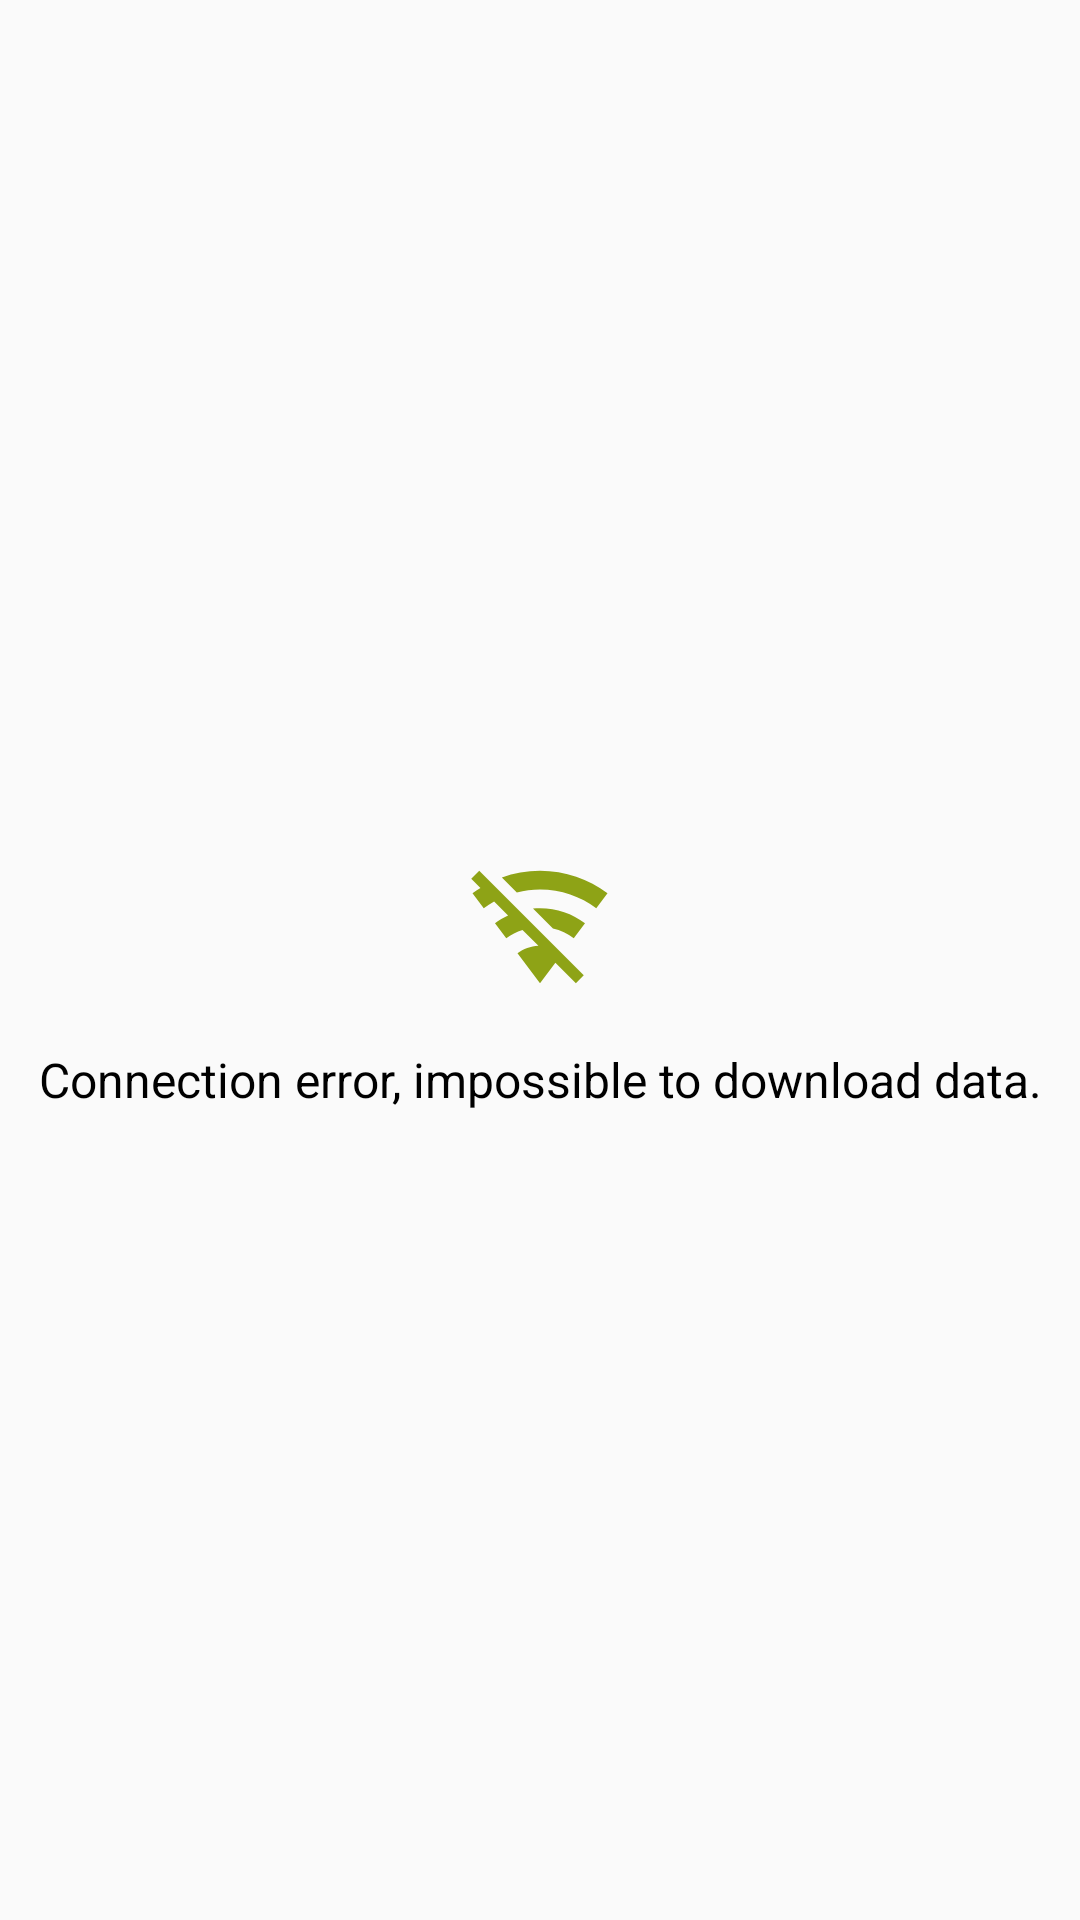

Icons on this 1080px x 1920px Android screen, each with its box as (x1,y1,x2,y2):
conn error: (471,870,608,983)
